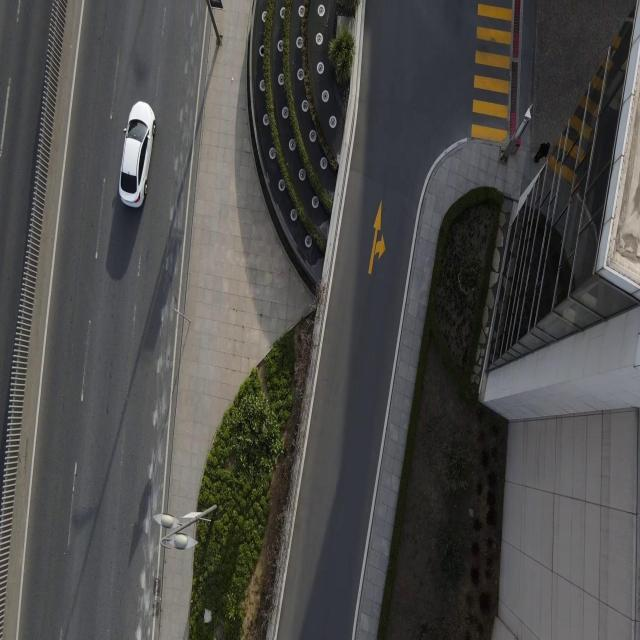p3rson: (533, 139, 551, 165)
